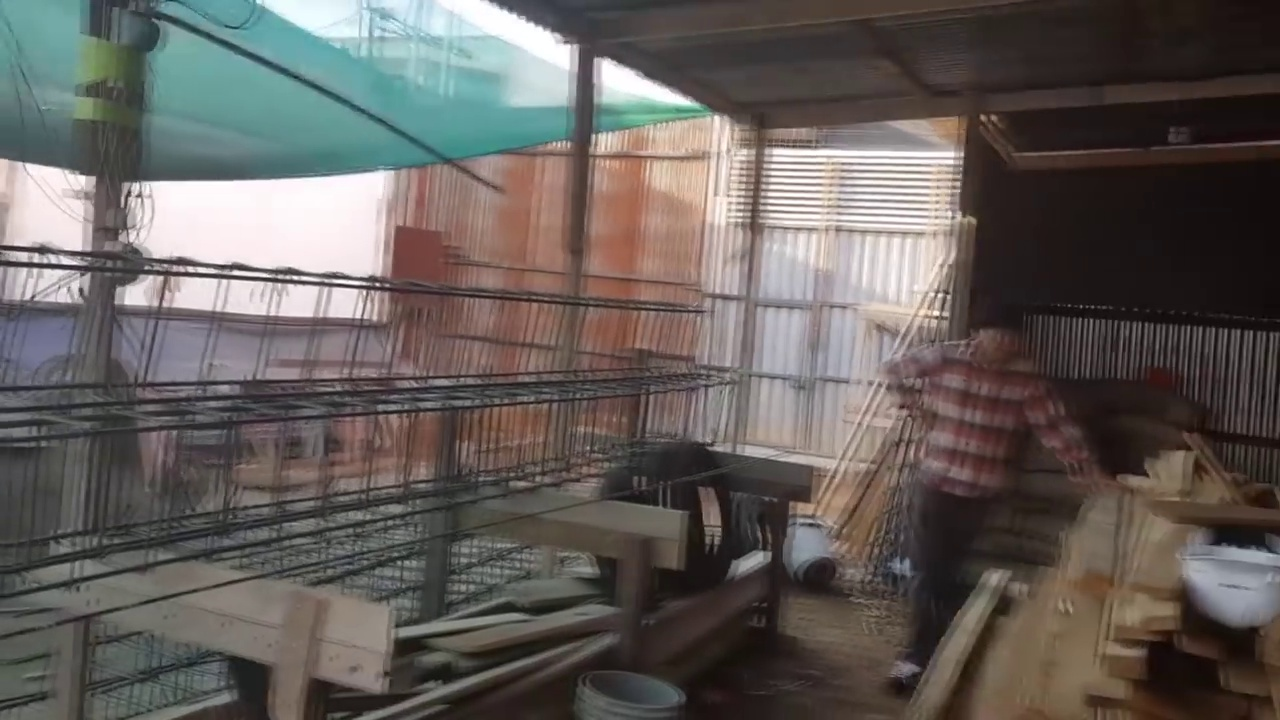helmet: (1178, 538, 1280, 633)
helmet-off: (961, 292, 1032, 371)
person: (880, 292, 1110, 688)
